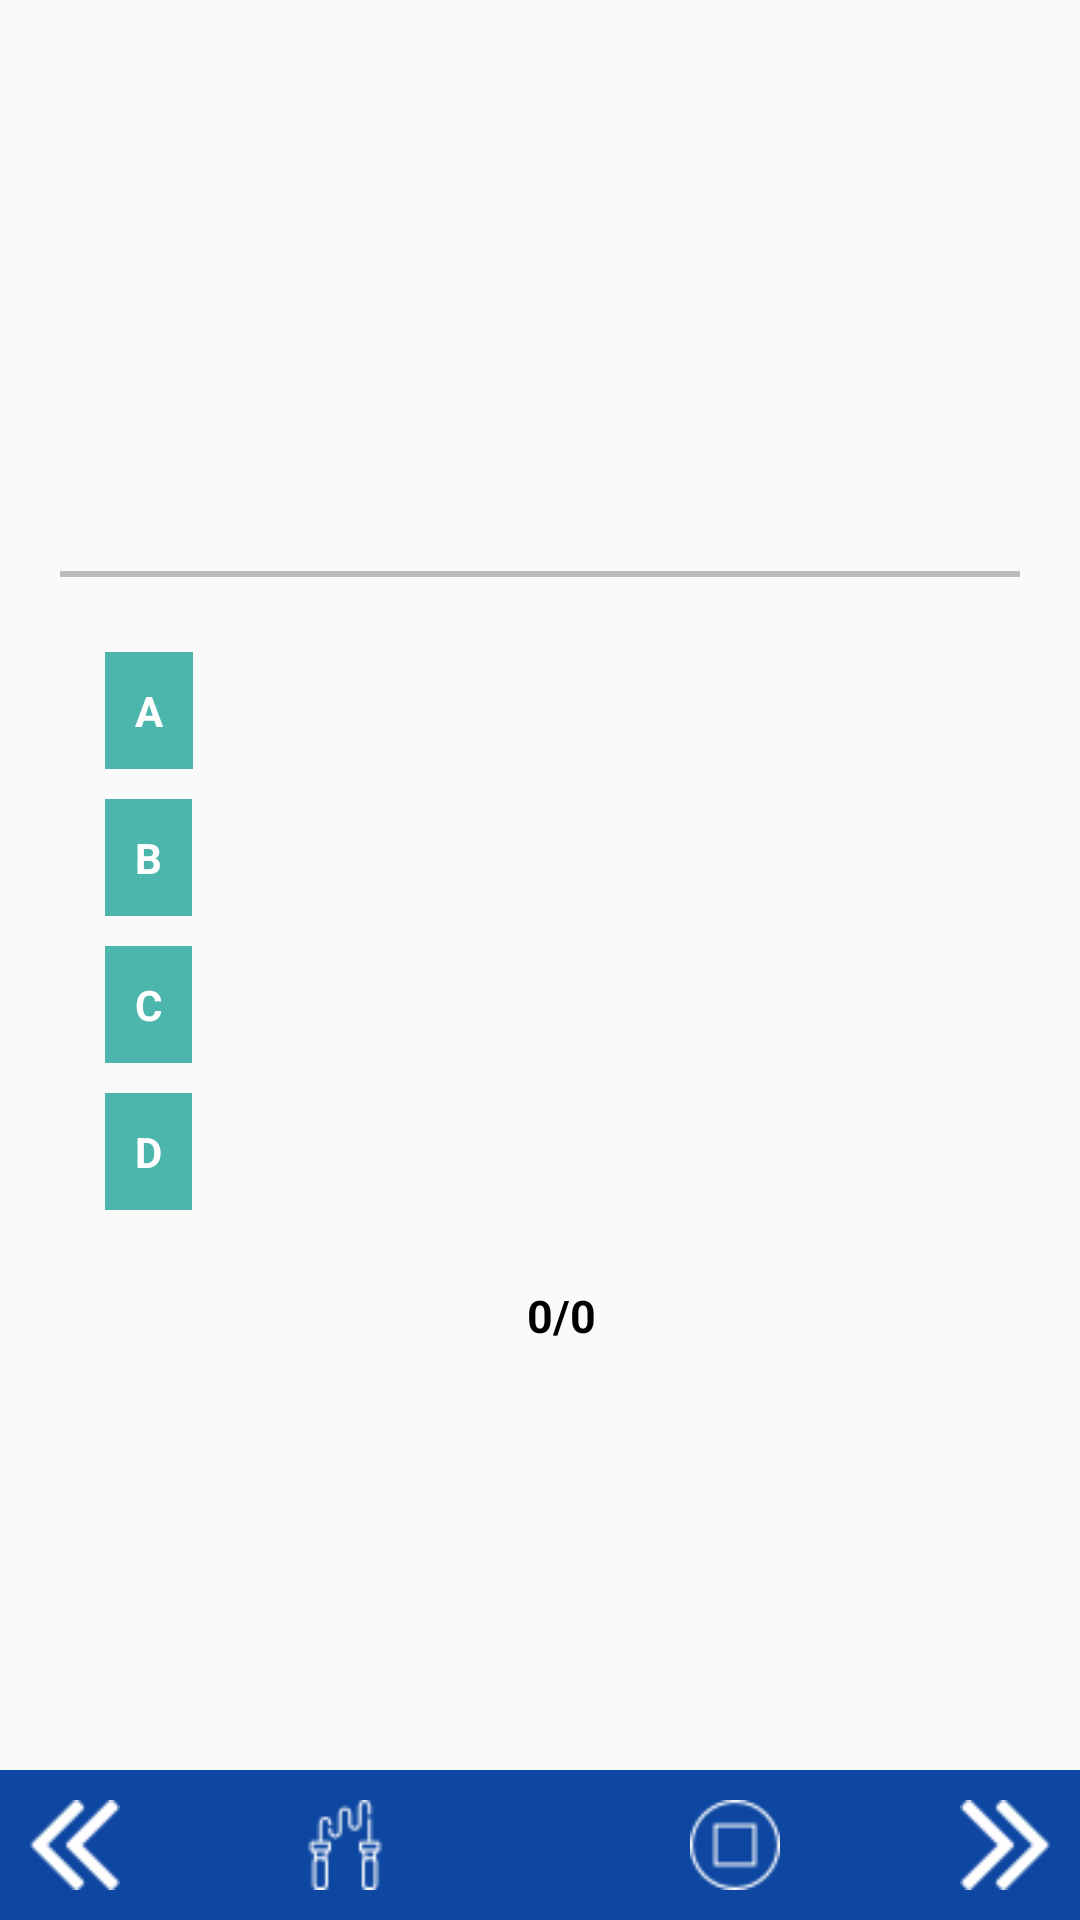

Icons on this 1080*1920 Android screen, each with its box as (x1, y1, x2, y2):
doubleleftarrow: (30, 1800, 120, 1890)
doublerightarrow: (960, 1800, 1050, 1890)
skippingrope: (308, 1800, 382, 1890)
stop: (690, 1800, 780, 1890)
